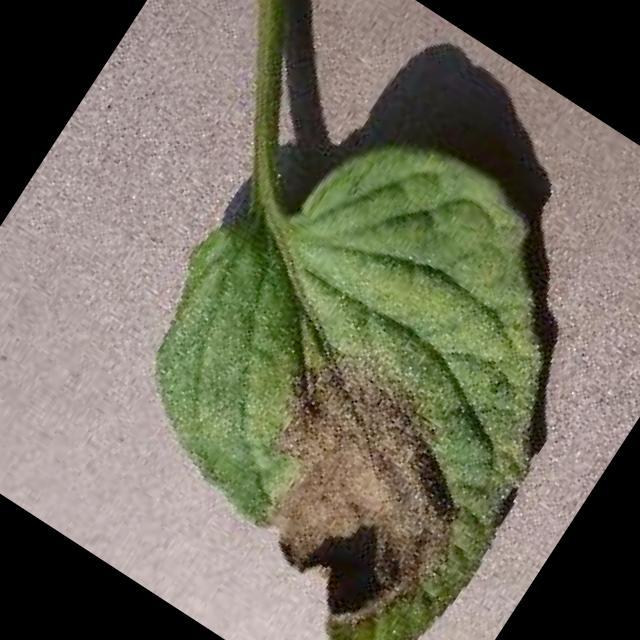Tomato late blight leaf: (35, 51, 640, 640)
